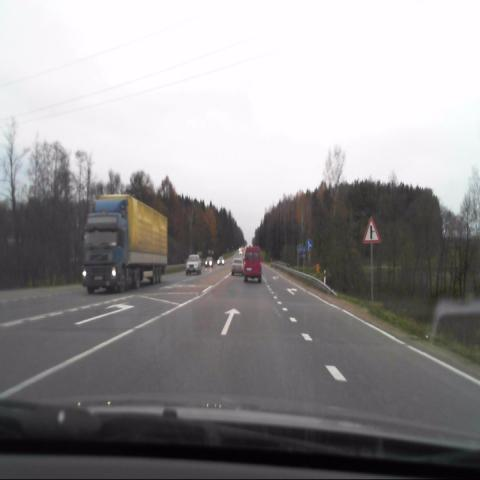2_3_2: (361, 215, 381, 244)
